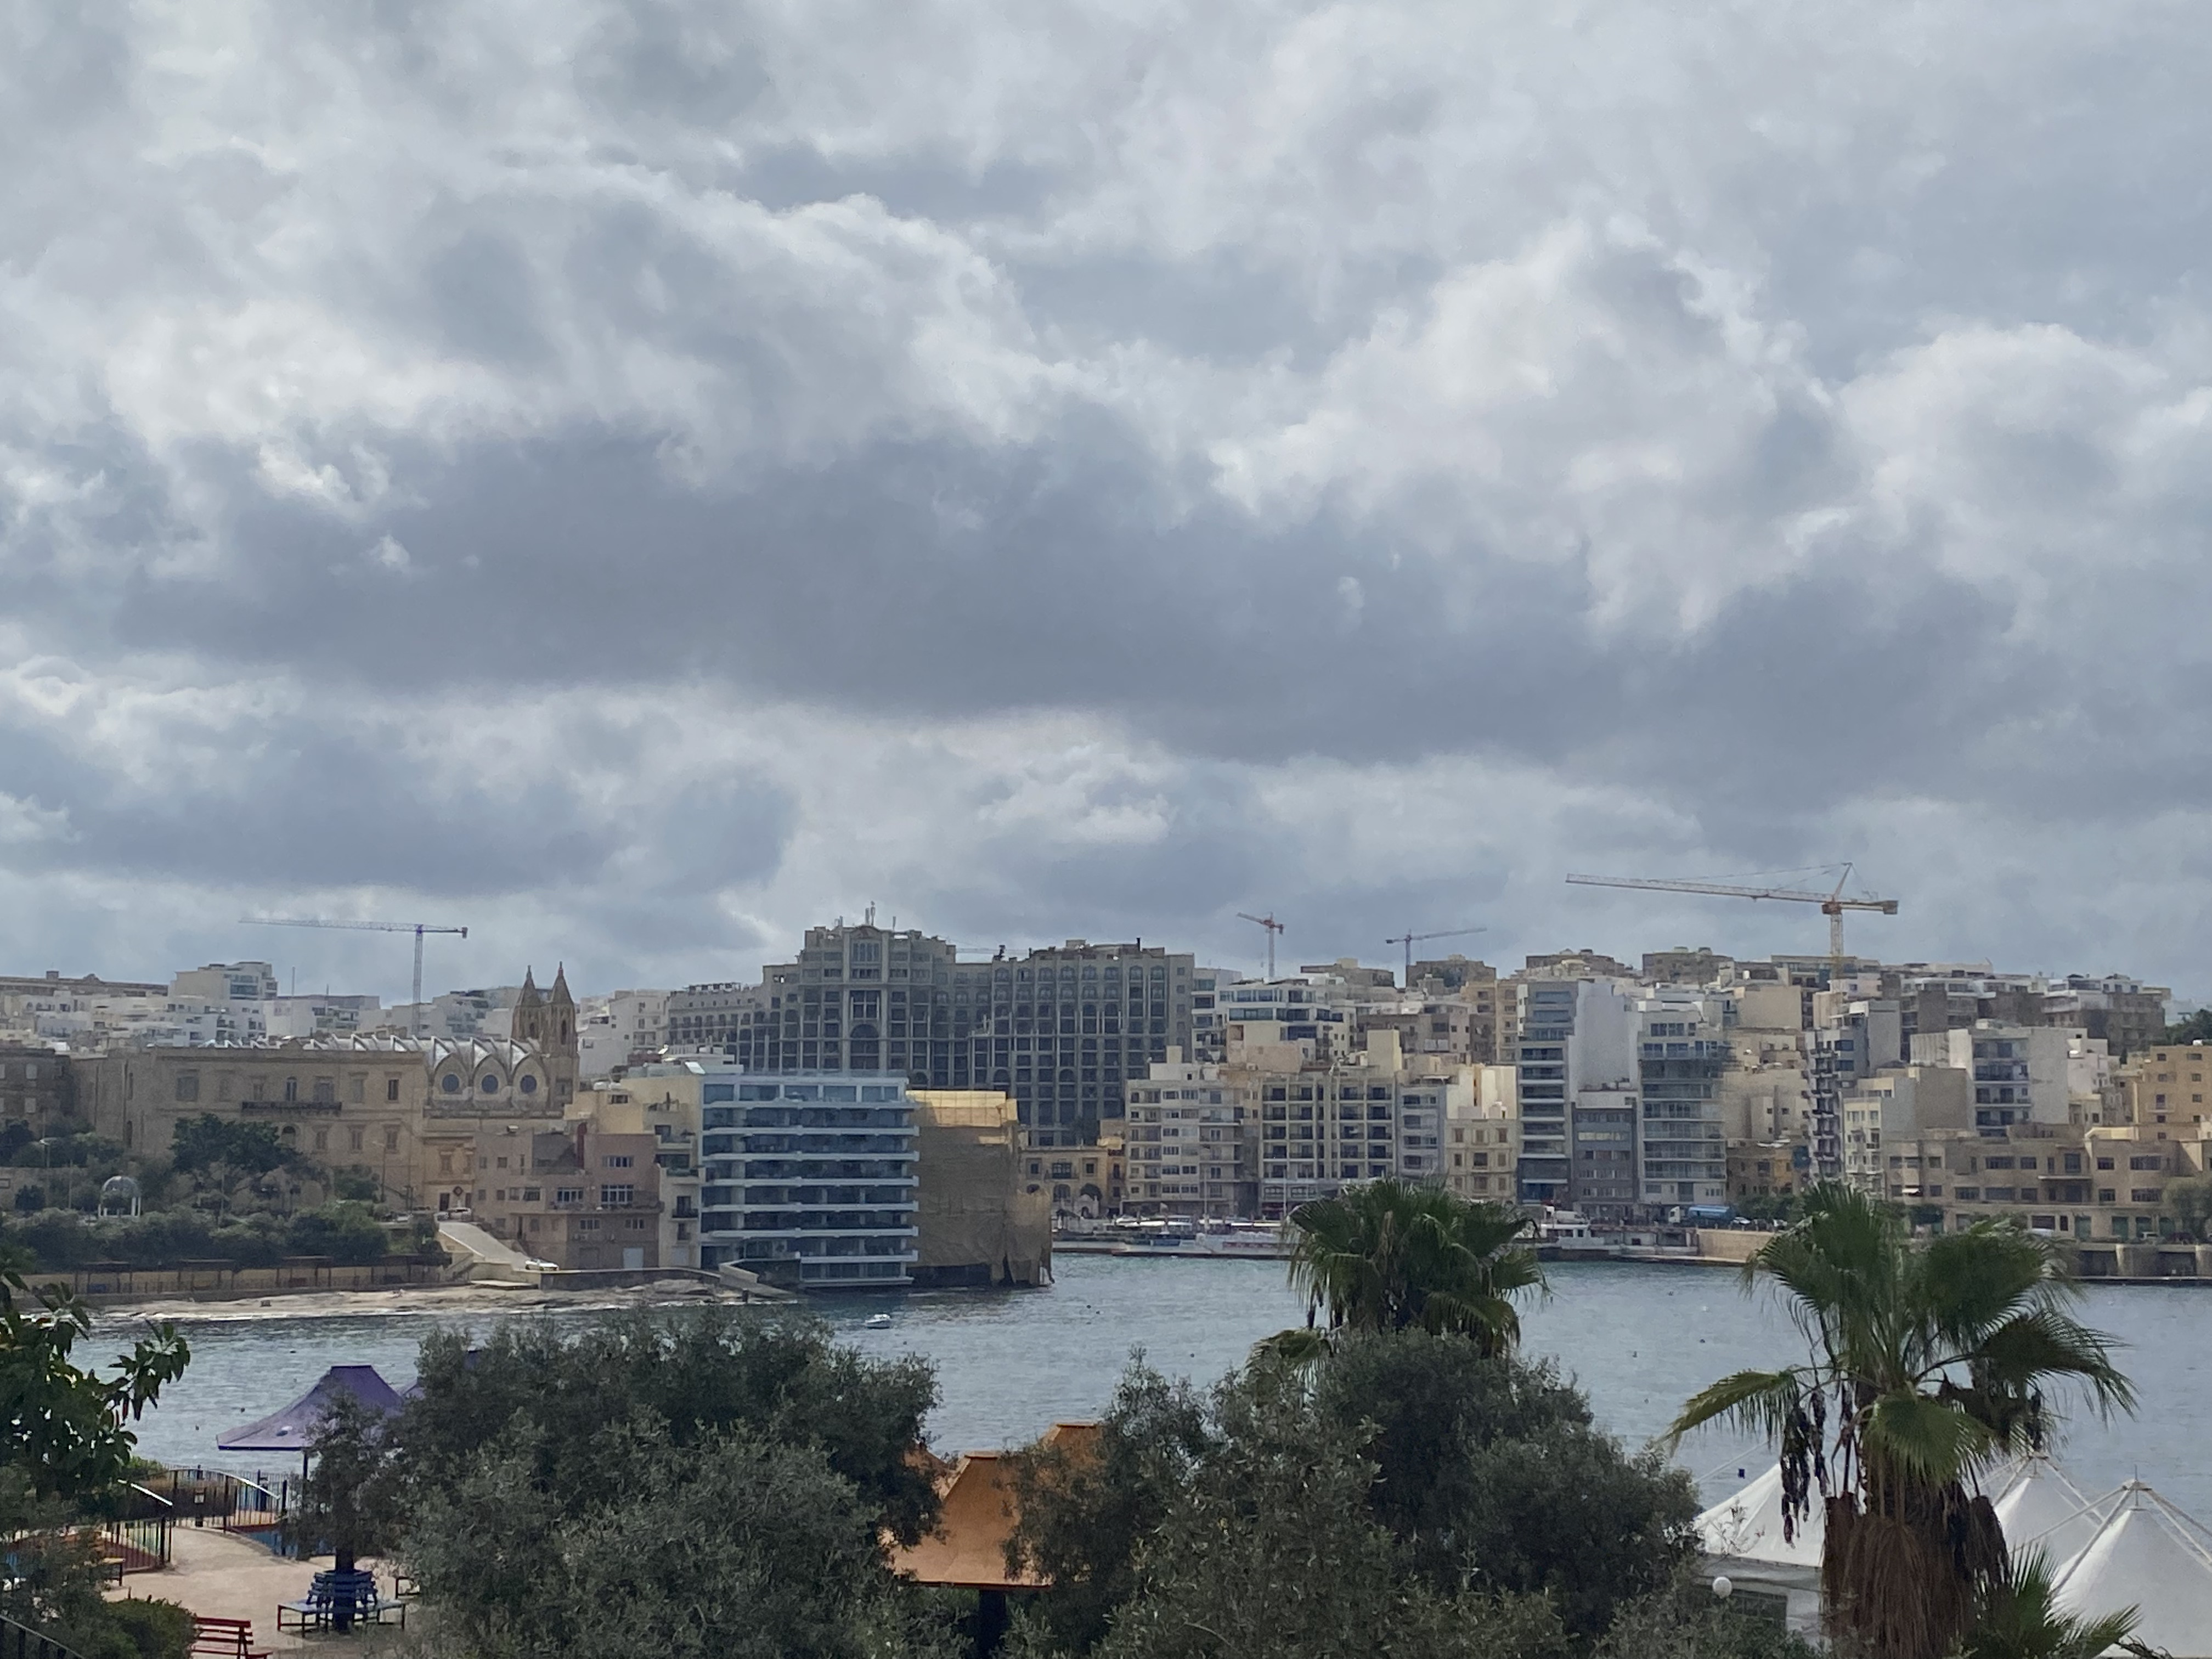crane: (1544, 838, 1933, 953), (227, 893, 515, 980)
